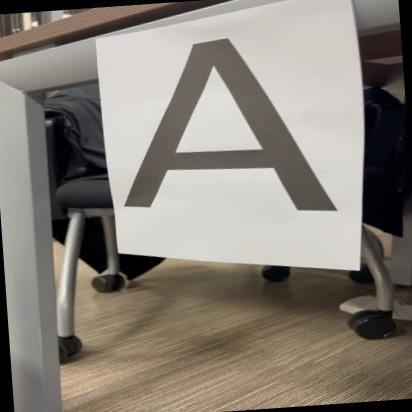seat: (102, 27, 350, 232)
